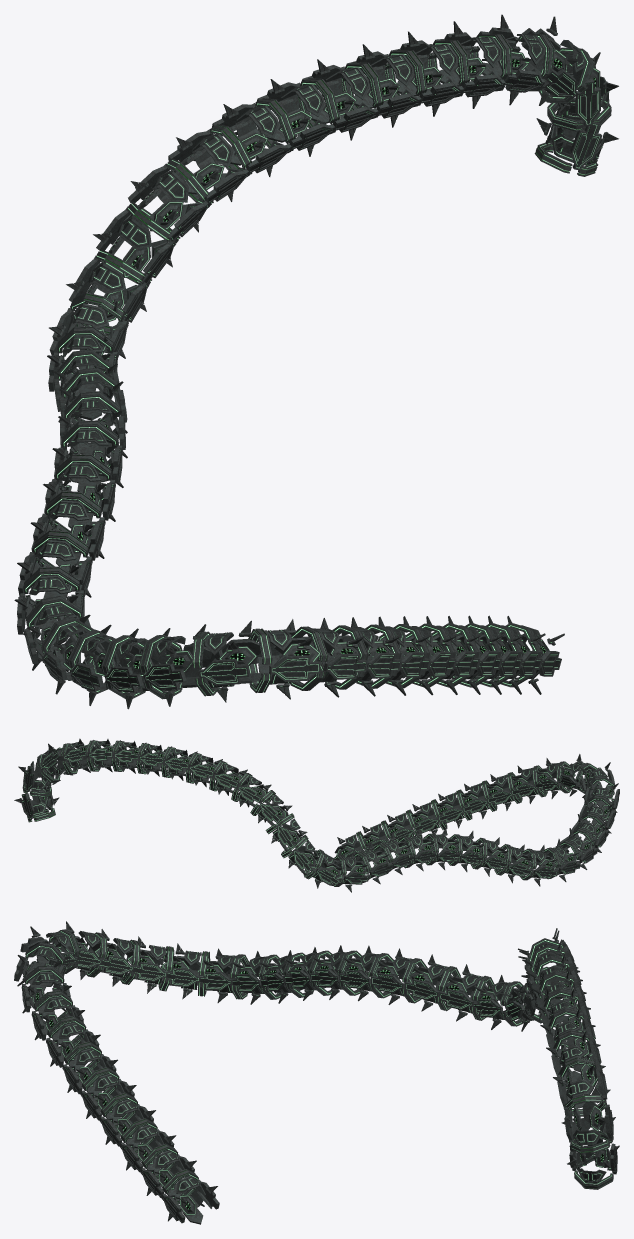
The model's file is SparseReefWyrm.fbx.
3 views of the same model, one above another, from view 1: azimuth 30°, elevation 25°; view 2: azimuth 150°, elevation 25°; view 3: azimuth 270°, elevation 25° (orthographic). The views are drawn at different scales.
Visible parts, largest first — view 1: Wyrm Model; view 2: Wyrm Model; view 3: Wyrm Model.
Part boxes in pixels (x1,y1,x2,y2): Wyrm Model: [14, 14, 618, 709]; Wyrm Model: [14, 738, 619, 892]; Wyrm Model: [14, 921, 619, 1224].
Size of what is drawn, in the model's own units: 1201 by 556 by 1051.
3 materials, 2 textured.
